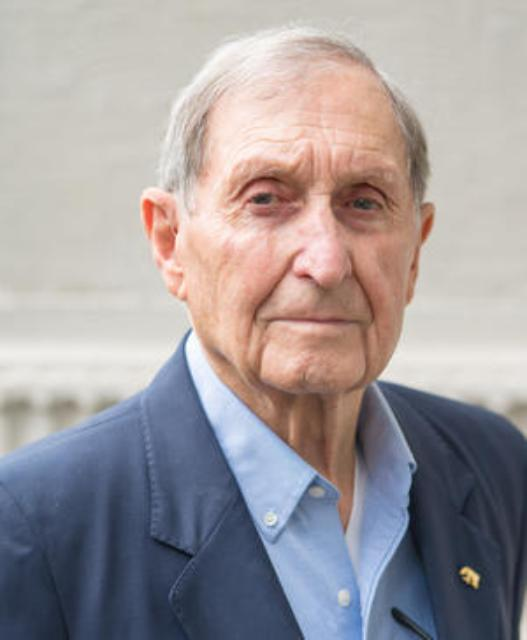crows_feet: (222, 185, 246, 223)
forehead: (343, 127, 393, 165), (250, 124, 296, 154)
frown_line: (302, 135, 336, 193)
gummy_smile: (250, 252, 294, 312), (344, 262, 380, 316)
sad_smile: (242, 318, 272, 379), (354, 324, 373, 392)
